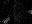person: (3, 15, 9, 24), (26, 10, 31, 14)
